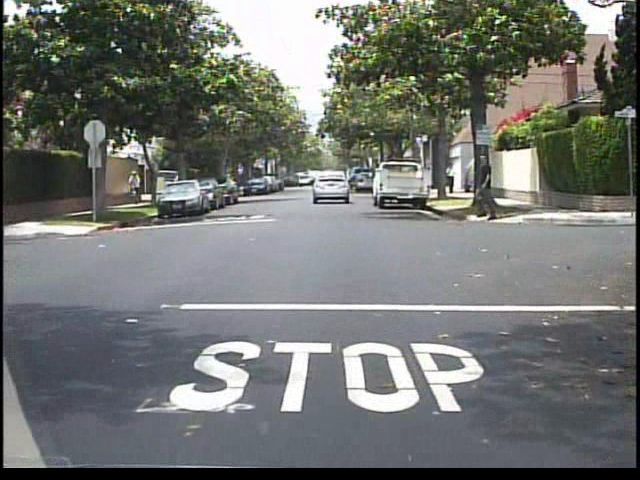person: (463, 152, 504, 222), (127, 169, 148, 206), (170, 170, 187, 203), (445, 160, 458, 199)
